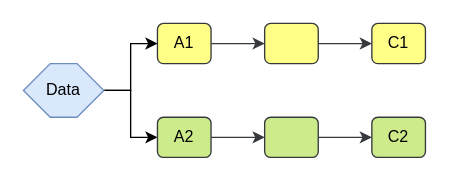
The diagram is 449 pixels wide and 181 high, and some of its shapes have lost their labels. The shapes that lost their labels are listed below. From the top down, each one's box as (x1, y1, x2, y2) in pixels, then its label:
(263, 22, 318, 64): B1
(263, 116, 318, 157): B2
